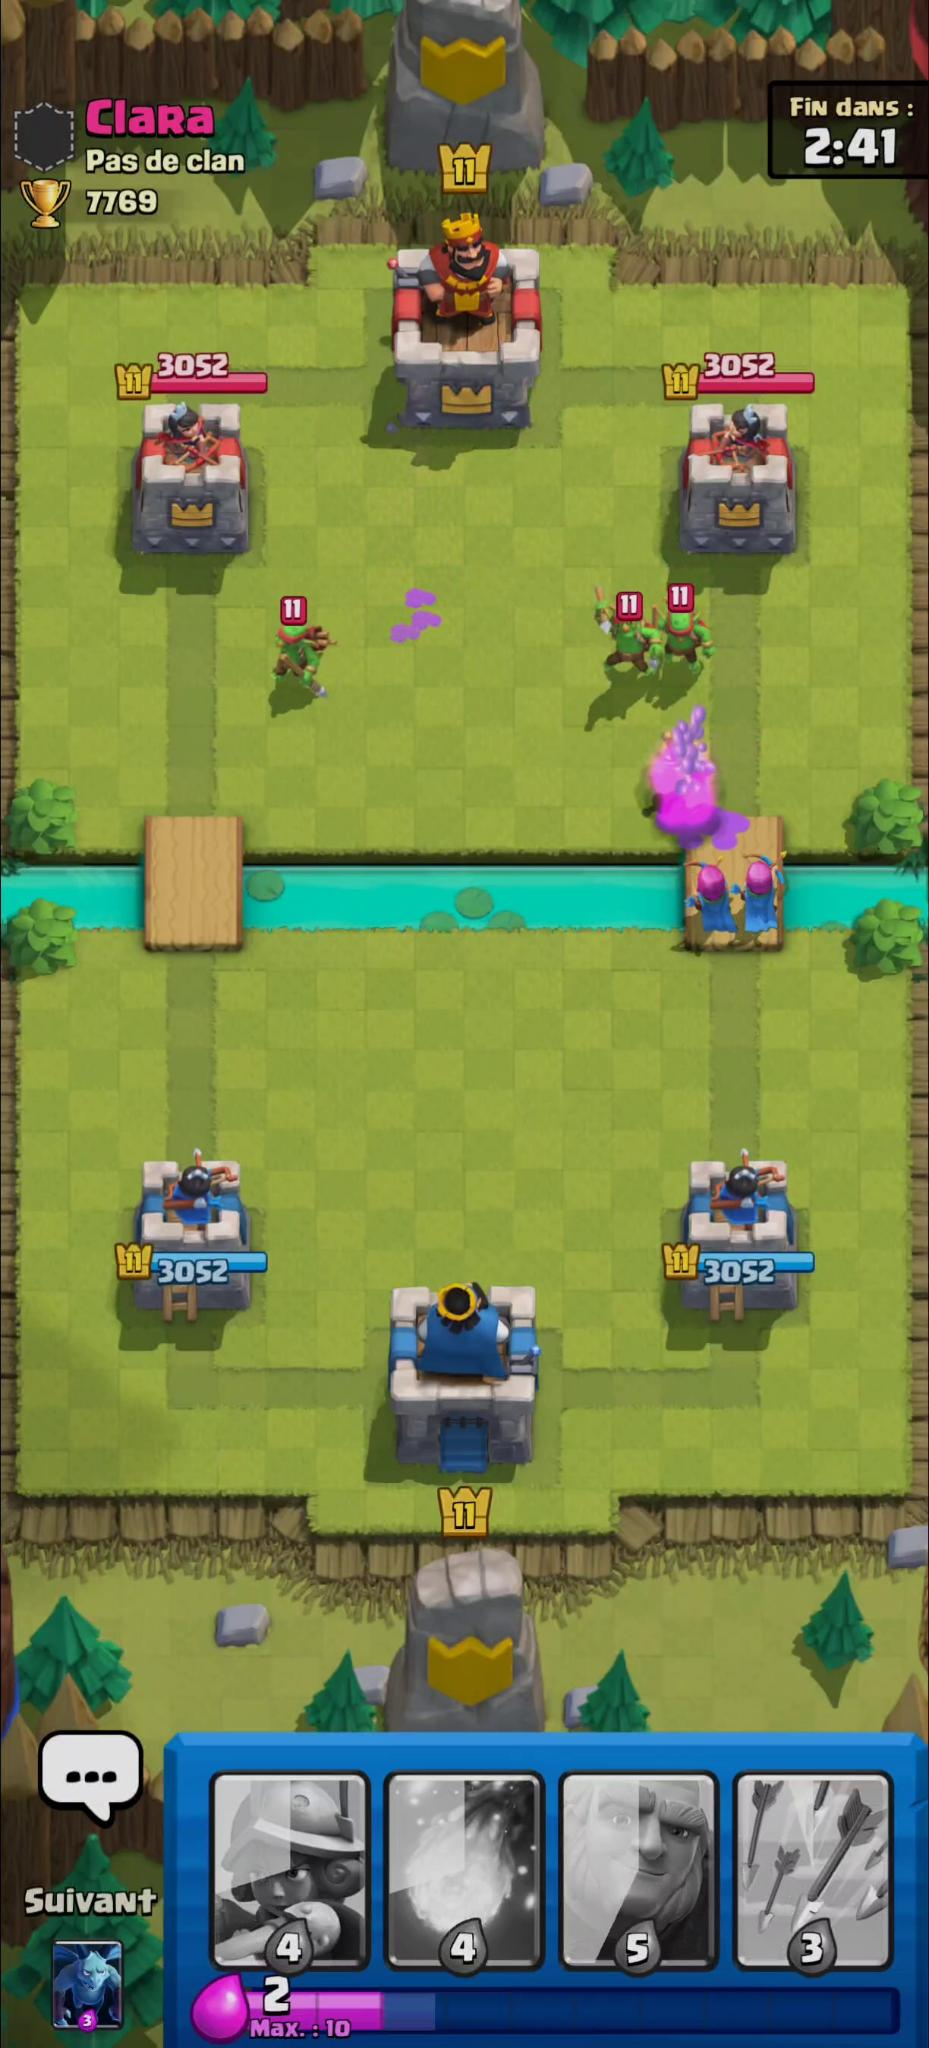archere: (683, 844, 741, 950), (738, 846, 796, 942)
gobelin_lances: (597, 583, 668, 680), (267, 613, 336, 703), (652, 601, 720, 675)
